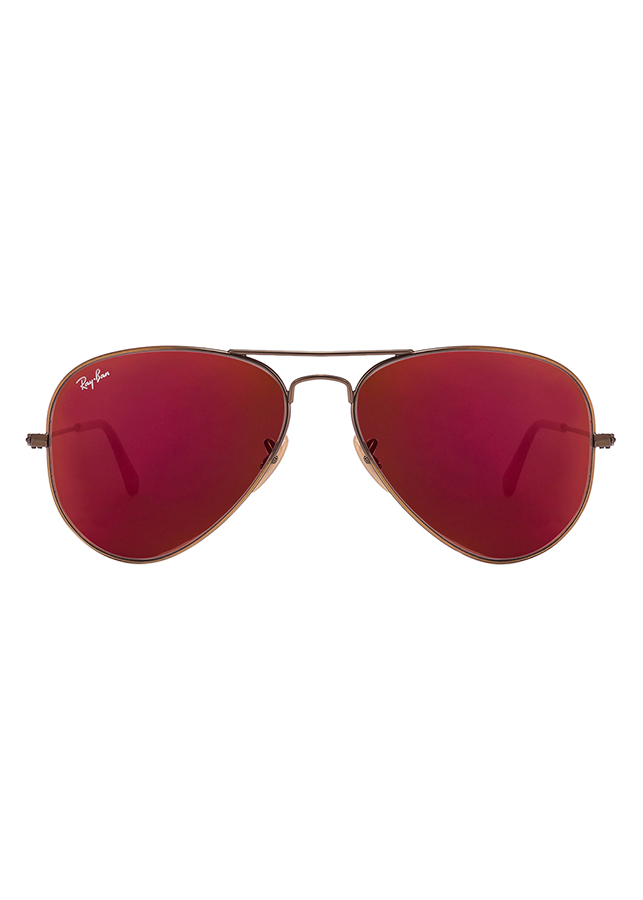Rayban: (71, 364, 119, 396)
